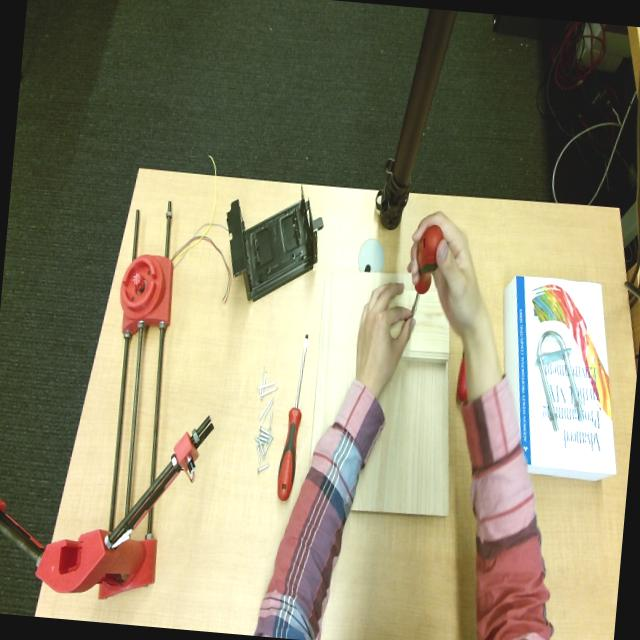screwdriver: (277, 334, 308, 500), (411, 225, 443, 317)
